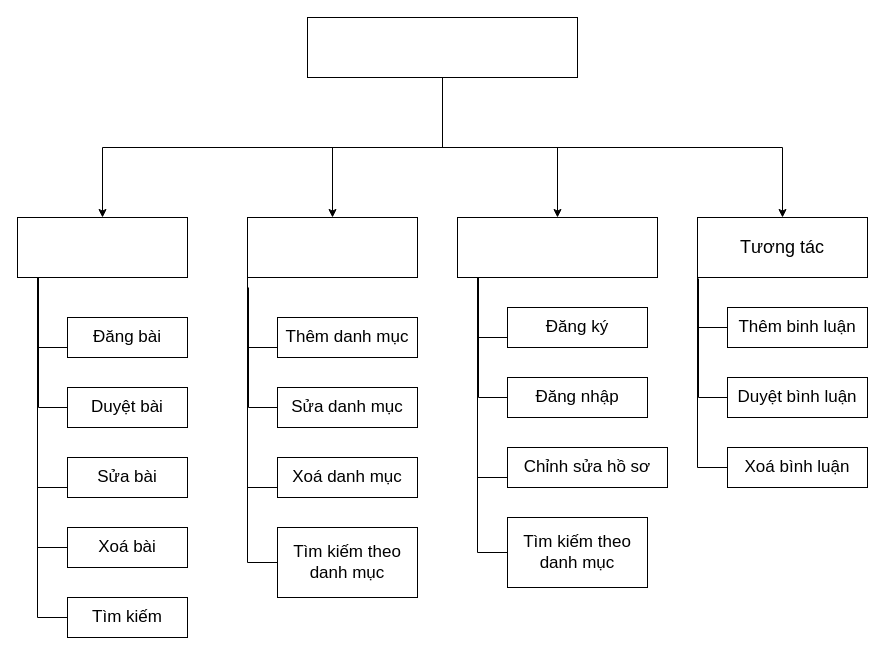
This 885x655 diagram has some shape labels left out. The box of each missing label's shape, as (x1, y1, x2, y2) in pixels:
Quản lý Blog: (306, 16, 578, 78)
Quản lý bài viết: (16, 216, 188, 278)
Quản lý danh mục: (246, 216, 418, 278)
Quản lý người dùng: (456, 216, 658, 278)
